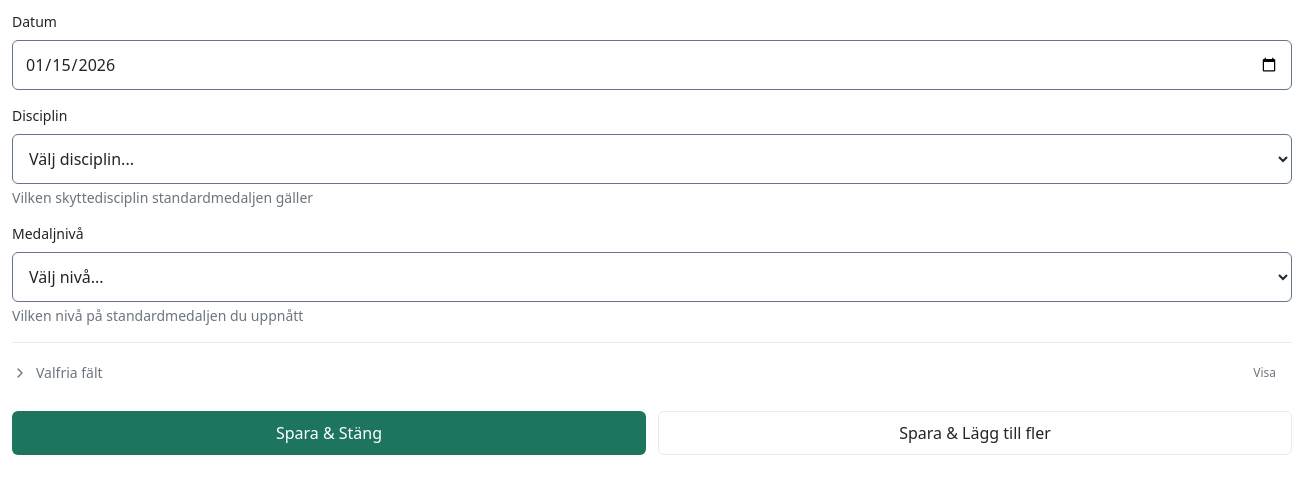
Test: StandardMedalForm › validation › shows error when date is empty
Clear the date field named "Datum för standardmedalj": (652, 65) 12,40 -> 1292,90
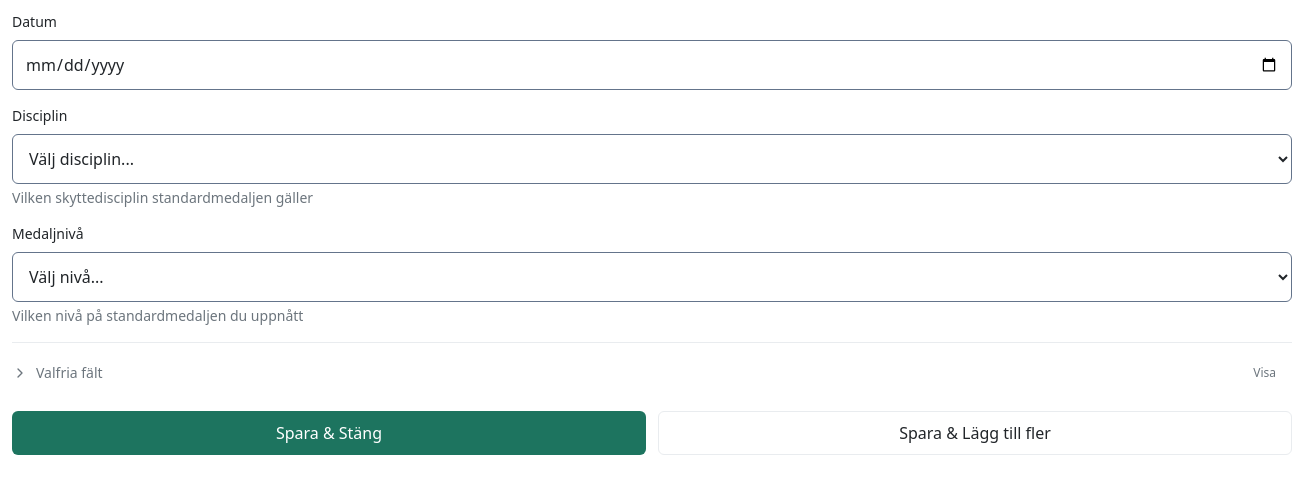
Click the button "Spara & Stäng": (329, 433) 12,411 -> 646,455
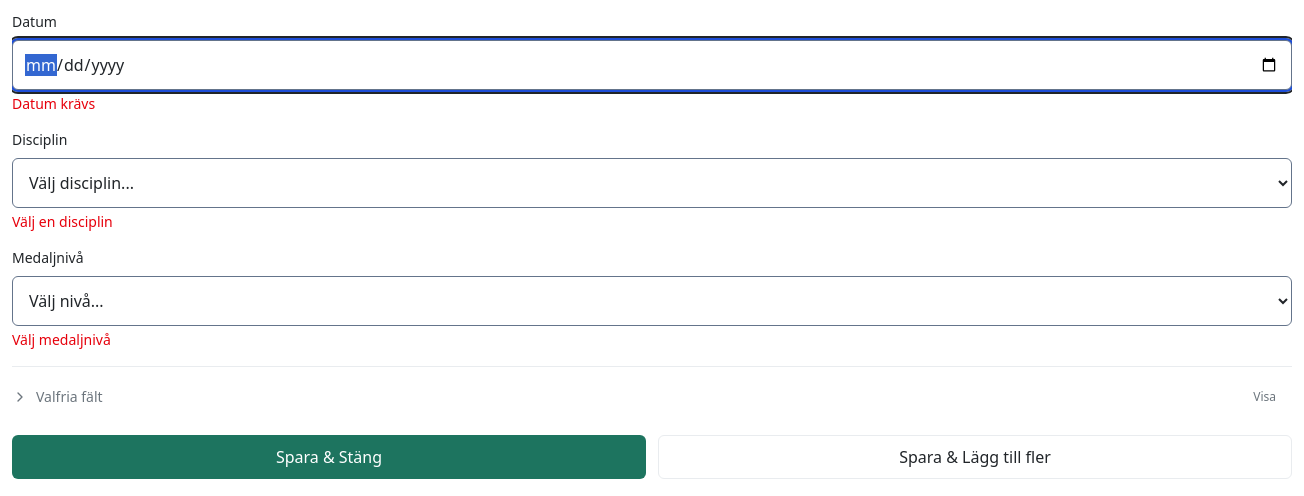
Now the text "Datum krävs" is shown, box 12,94 -> 95,113
